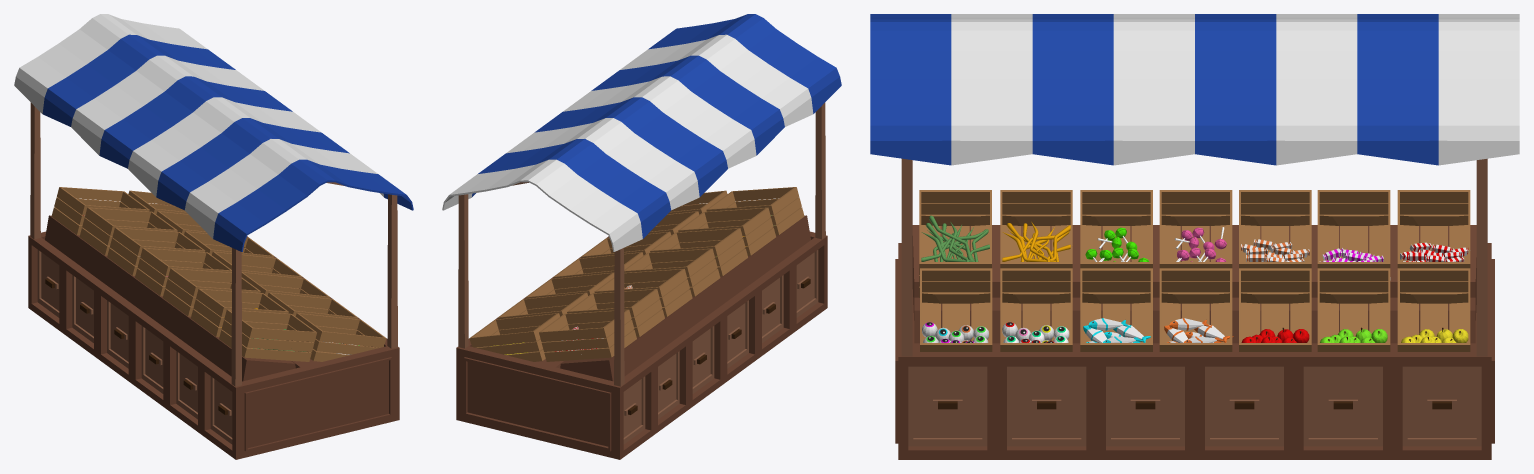
File: puestoIngredientes5 1.fbx
3 views of the same model, side by side, from view 1: azimuth 30°, elevation 25°; view 2: azimuth 150°, elevation 25°; view 3: azimuth 270°, elevation 25° (orthographic). The views are drawn at different scales.
Visible parts, largest first — view 1: Base, ToldoColor, ToldoBlanco, Cajones, Postes, Cube.2398, Cube.2391, Cube.2404, Cube.2402, Cube.2401, Cube.2403, Cube.2400 (+8 smaller); view 2: Base, ToldoBlanco, ToldoColor, Cajones, Postes, Cube.2404, Cube.2397, Cube.2398, Cube.2399, Cube.2401, Cube.2400, Cube.2403 (+8 smaller); view 3: ToldoColor, ToldoBlanco, Cajones, Base, Cube.2396, Cube.2397, Cube.2395, Cube.2403, Cube.2392, Cube.2391, Cube.2394, Cube.2393 (+8 smaller).
Boxes of the visible parts, x1,y1,x2,y2 form: Base: (28, 204, 399, 459); ToldoColor: (42, 34, 413, 251); ToldoBlanco: (14, 14, 383, 238); Cajones: (37, 250, 232, 444); Postes: (30, 102, 397, 386); Cube.2398: (219, 309, 316, 361); Cube.2391: (295, 313, 386, 361); Cube.2404: (51, 187, 149, 235); Cube.2402: (107, 227, 205, 275); Cube.2401: (135, 248, 231, 296); Cube.2403: (79, 207, 177, 255); Cube.2400: (162, 268, 260, 316); Base: (456, 204, 827, 459); ToldoBlanco: (442, 34, 813, 251); ToldoColor: (472, 14, 841, 238); Cajones: (623, 250, 818, 444); Postes: (458, 102, 825, 386); Cube.2404: (539, 309, 636, 361); Cube.2397: (469, 313, 559, 361); Cube.2398: (706, 187, 804, 235); Cube.2399: (678, 207, 775, 255); Cube.2401: (624, 248, 720, 296); Cube.2400: (650, 228, 747, 276); Cube.2403: (567, 289, 664, 337); ToldoColor: (870, 14, 1438, 165); ToldoBlanco: (951, 14, 1519, 165); Cajones: (908, 366, 1481, 446); Base: (895, 225, 1494, 459); Cube.2396: (1317, 268, 1390, 351); Cube.2397: (1397, 268, 1470, 351); Cube.2395: (1239, 268, 1311, 351); Cube.2403: (1317, 190, 1390, 268); Cube.2392: (1000, 268, 1072, 351); Cube.2391: (920, 268, 992, 351); Cube.2394: (1159, 268, 1232, 351); Cube.2393: (1080, 268, 1152, 351).
Size of the model in its own units: 720 by 1065 by 1645.
